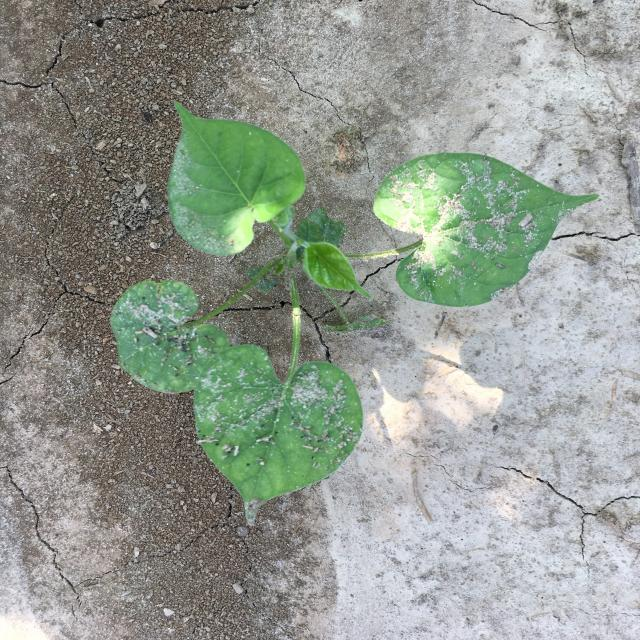MorningGlory: (110, 99, 599, 525)
